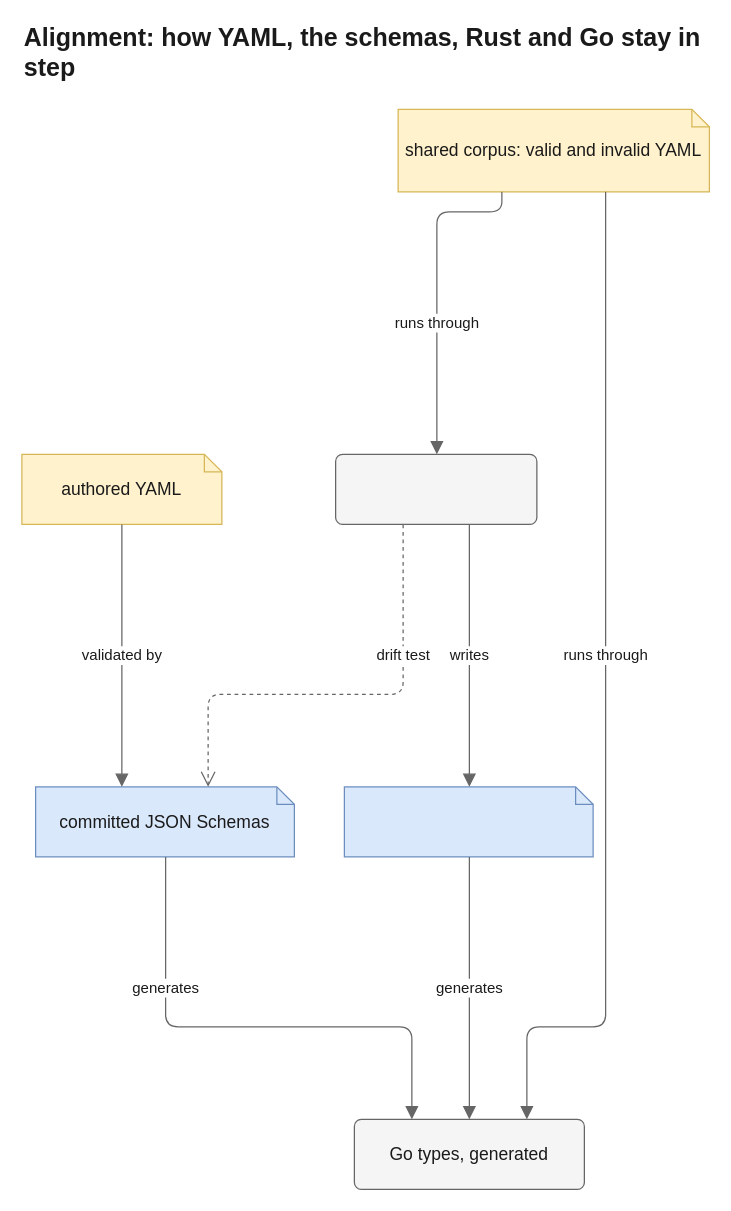
Image size: 731x1211. Some labels were removed from this diagram. Each missing label, with the centre of its shape:
"compose-result schema" goes at (x=468, y=821).
"Rust serde types" goes at (x=435, y=488).
